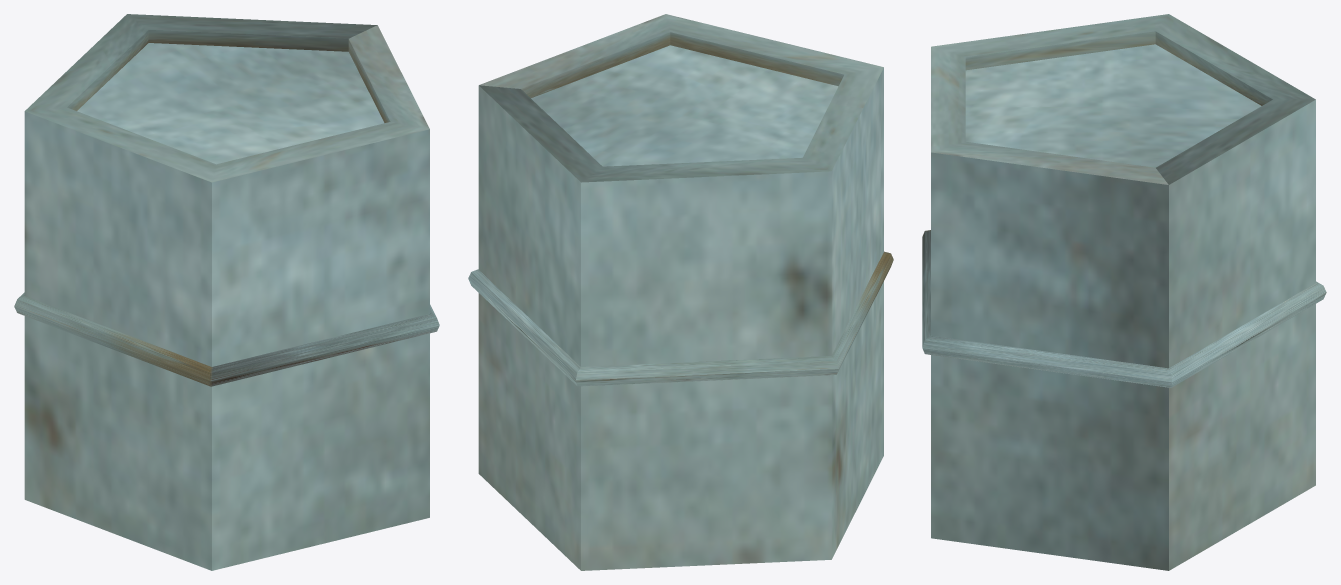
Rendered from Barrel2.glb.
3 views of the same model, side by side, from view 1: azimuth 30°, elevation 25°; view 2: azimuth 150°, elevation 25°; view 3: azimuth 270°, elevation 25° (orthographic).
Parts seen in each view (by area): view 1: Cylinder; view 2: Cylinder; view 3: Cylinder.
Part boxes in pixels (x1,y1,x2,y2): Cylinder: [14, 14, 439, 570]; Cylinder: [468, 14, 893, 570]; Cylinder: [922, 14, 1326, 570].
Size of the model in its own units: 2 by 2 by 1.9.
1 material, 1 textured.
